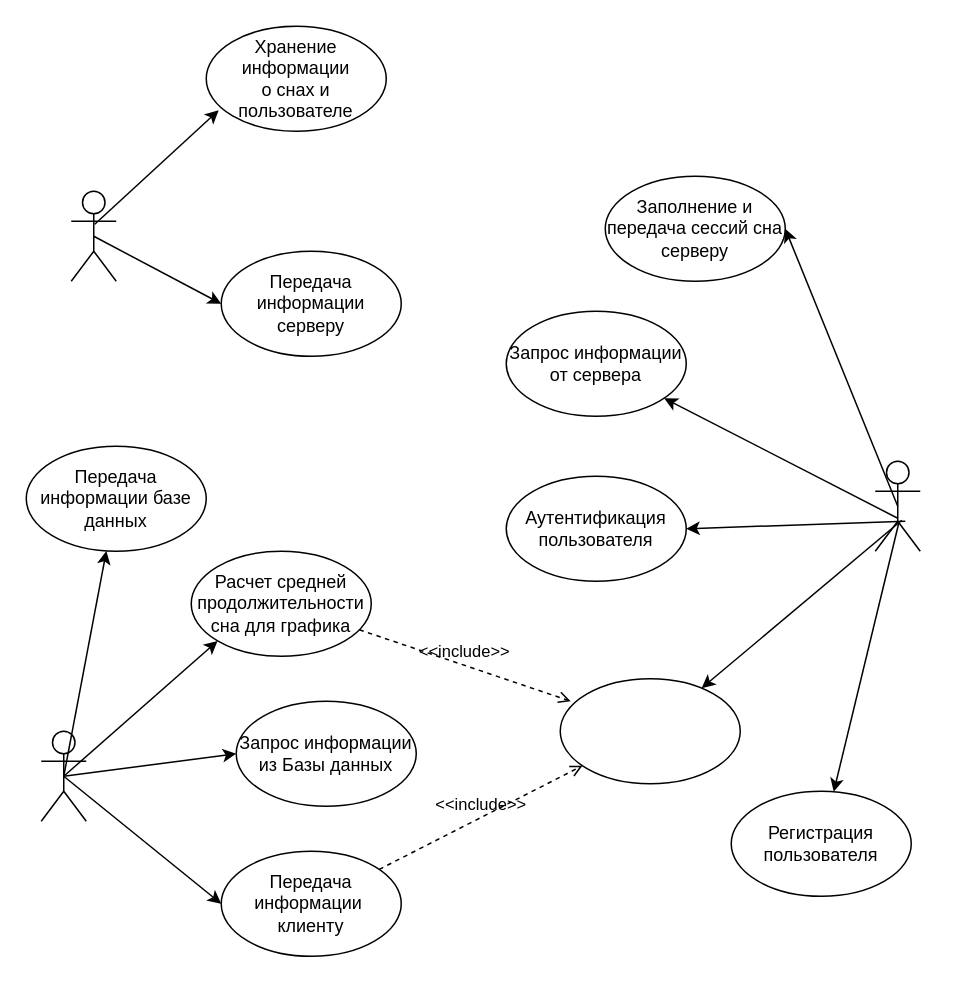
This 954x983 diagram has some shape labels left out. The shapes that lost their labels are listed below. From the top down, each one's box as (x1, y1, x2, y2) in pixels, then its label:
(70, 190, 116, 281): База данных
(874, 460, 920, 551): Клиент
(559, 677, 740, 784): Отрисовка статистики и графиков
(40, 730, 86, 821): Сервер
